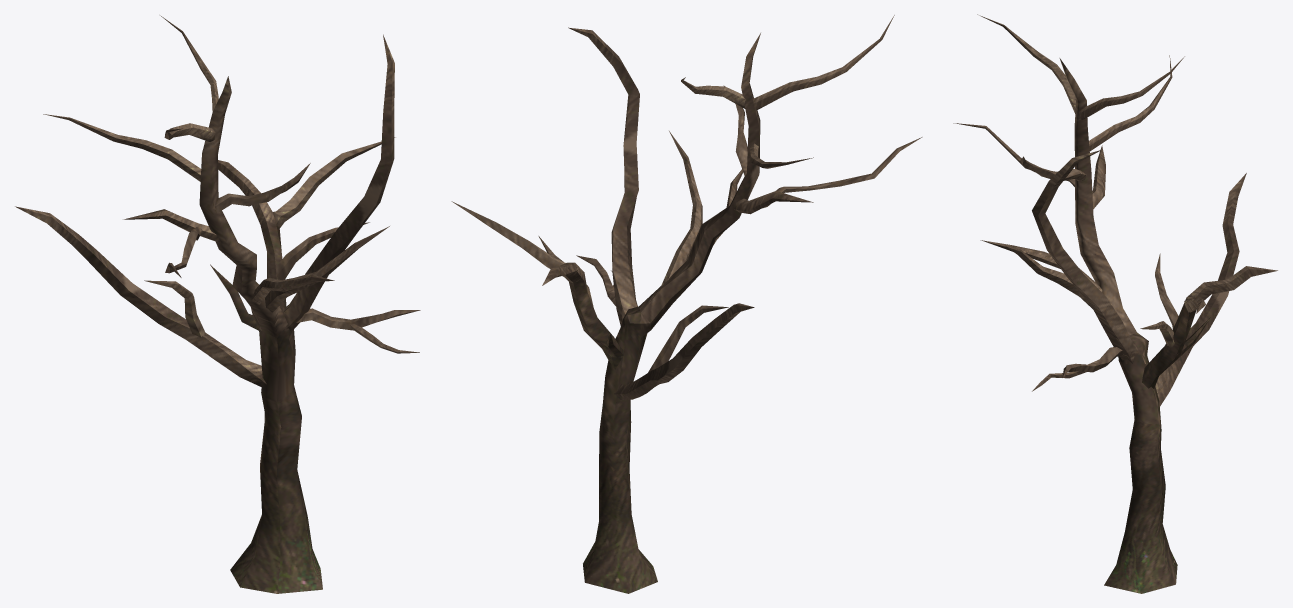
File: ss_taoshu_4.FBX
3 renders of one model, left to right at view 1: azimuth 30°, elevation 25°; view 2: azimuth 150°, elevation 25°; view 3: azimuth 270°, elevation 25°, orthographic. The views are drawn at different scales.
Parts seen in each view (by area): view 1: ss_taoshu_4; view 2: ss_taoshu_4; view 3: ss_taoshu_4.
Boxes of the visible parts, x1,y1,x2,y2 form: ss_taoshu_4: (15,15,420,593); ss_taoshu_4: (451,15,922,593); ss_taoshu_4: (953,14,1277,593).
Size of the model in its own units: 265 by 388 by 238.
